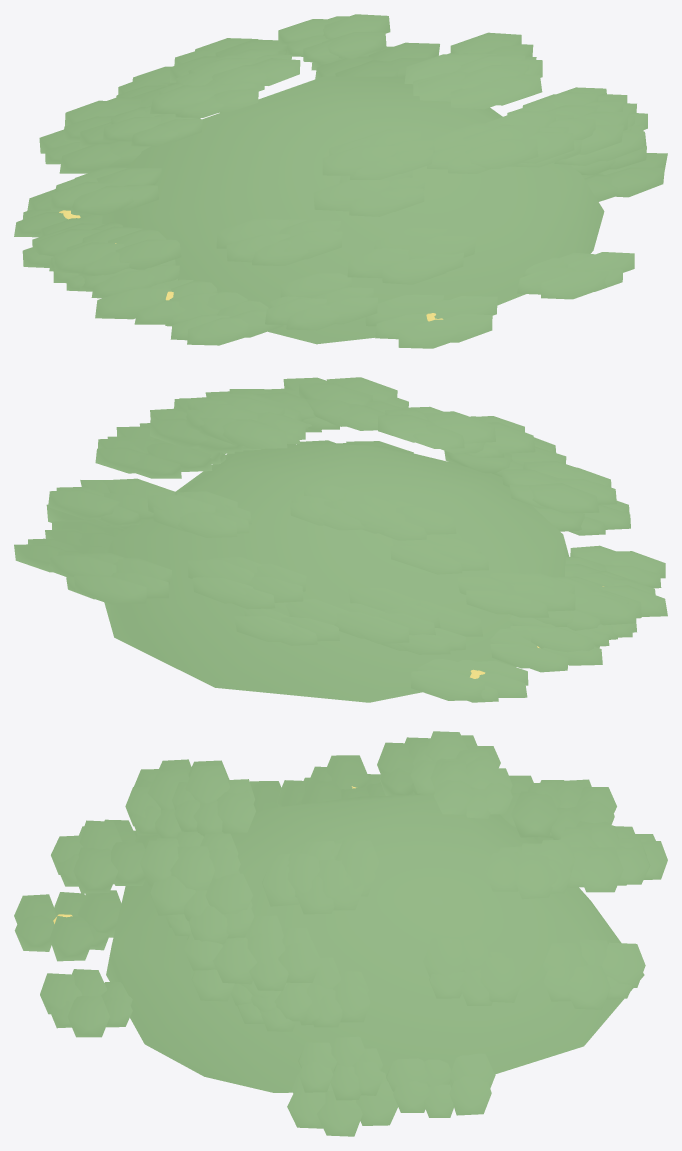
Rendered from Blender_Naupaka_2.glb.
3 views of the same model, one above another, from view 1: azimuth 30°, elevation 25°; view 2: azimuth 150°, elevation 25°; view 3: azimuth 270°, elevation 25° (orthographic). The views are drawn at different scales.
Visible parts, largest first — view 1: Blender_Naupaka_2; view 2: Blender_Naupaka_2; view 3: Blender_Naupaka_2.
Part boxes in pixels (left/top/right/bottom): Blender_Naupaka_2: left=14, top=14, right=667, bottom=348; Blender_Naupaka_2: left=14, top=377, right=667, bottom=702; Blender_Naupaka_2: left=14, top=731, right=667, bottom=1136.
Size of the model in its own units: 2.65 by 0.7059 by 2.2.
